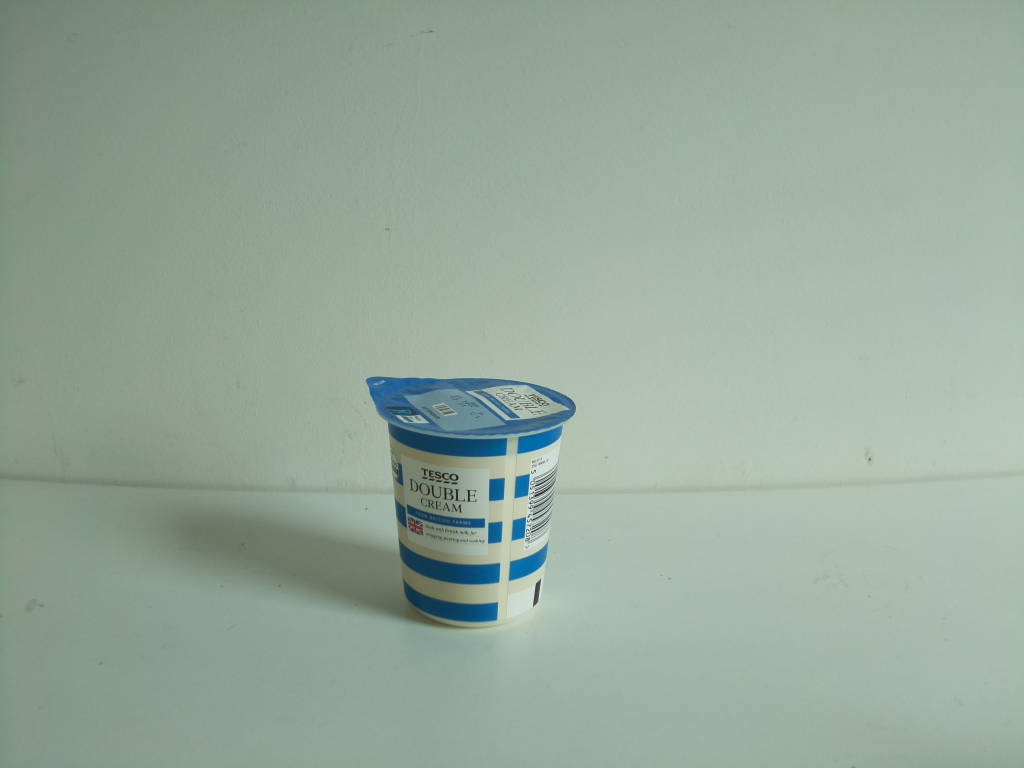cream: (366, 366, 580, 640)
